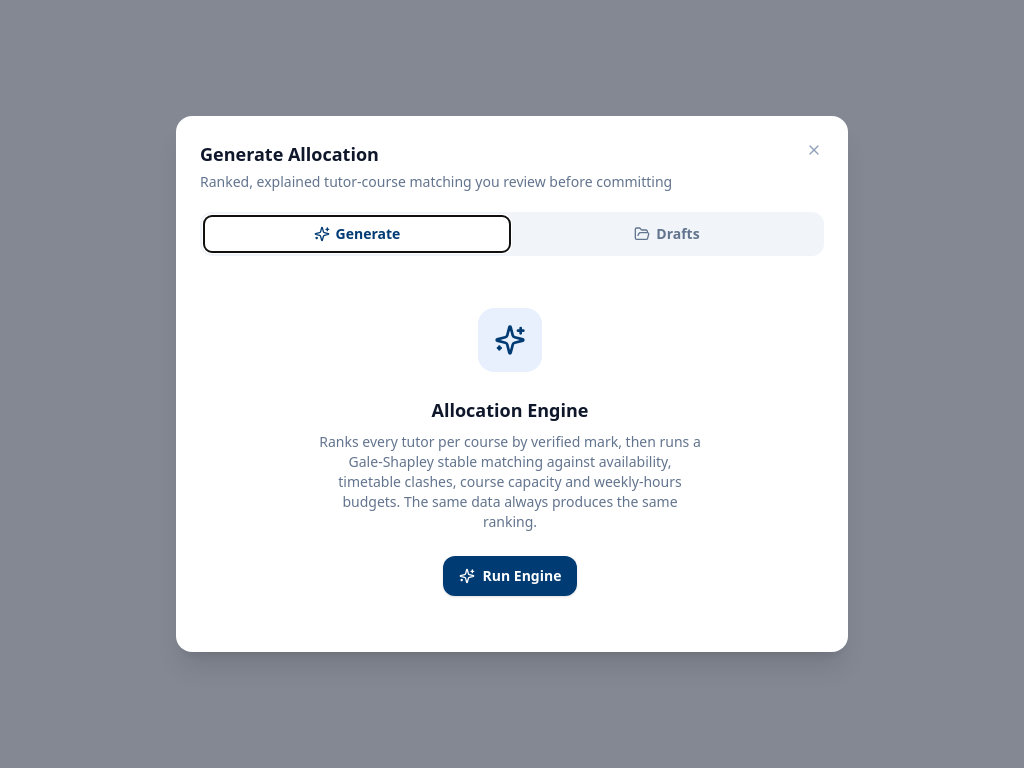
Test: GenerateAllocationModal preview › runs the engine into a ranked, grouped review
Expected: the text "2 proposed" is not shown
Click the button "Run Engine" at (510,576), box [442, 556, 577, 596]
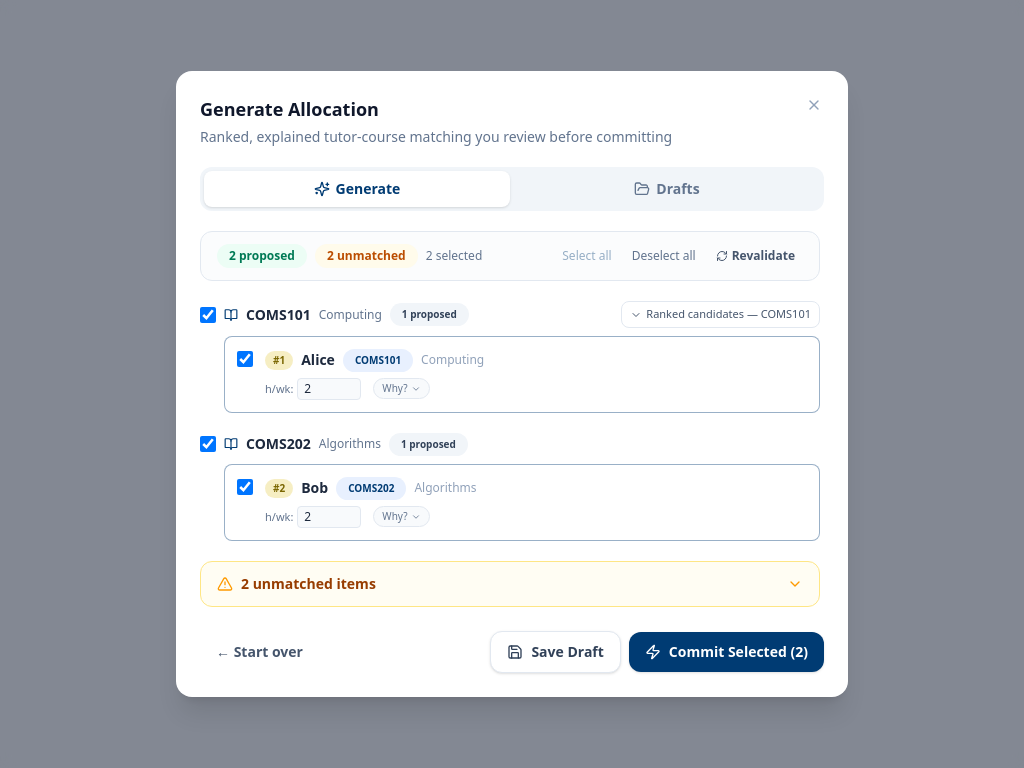
Expected: the text "2 proposed" is shown, [217, 244, 307, 268]
Expected: the text "#1" is shown, [265, 351, 293, 370]
Expected: the text "#2" is shown, [265, 479, 293, 498]
